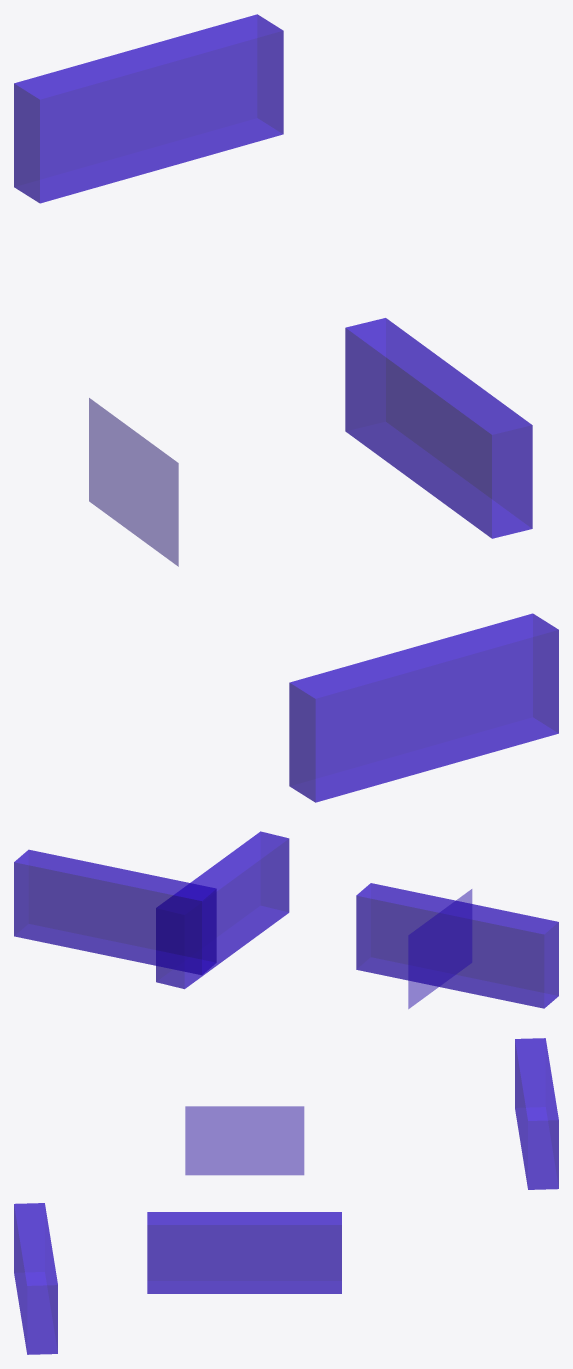
File: playground.glb
The picture shows the model from 3 angles, top to bottom: view 1: azimuth 30°, elevation 25°; view 2: azimuth 150°, elevation 25°; view 3: azimuth 270°, elevation 25°; orthographic projection. The views are drawn at different scales.
Parts seen in each view (by area): view 1: Cube.002, Cube.003, Cube.001, Cube; view 2: Cube.003, Cube.002, Cube.001, Cube; view 3: Cube.001, Cube, Cube.002, Cube.003.
Boxes of the visible parts, bbox=[...] form: Cube.002: bbox=[289, 613, 558, 802]; Cube.003: bbox=[14, 14, 283, 203]; Cube.001: bbox=[345, 318, 532, 538]; Cube: bbox=[89, 398, 178, 566]; Cube.003: bbox=[14, 849, 216, 975]; Cube.002: bbox=[356, 883, 558, 1008]; Cube.001: bbox=[156, 831, 289, 989]; Cube: bbox=[408, 889, 472, 1008]; Cube.001: bbox=[147, 1212, 341, 1293]; Cube: bbox=[185, 1106, 304, 1175]; Cube.002: bbox=[14, 1203, 57, 1354]; Cube.003: bbox=[515, 1038, 558, 1189].
Size of the model in its own units: 3.92 by 4.15 by 7.69.
